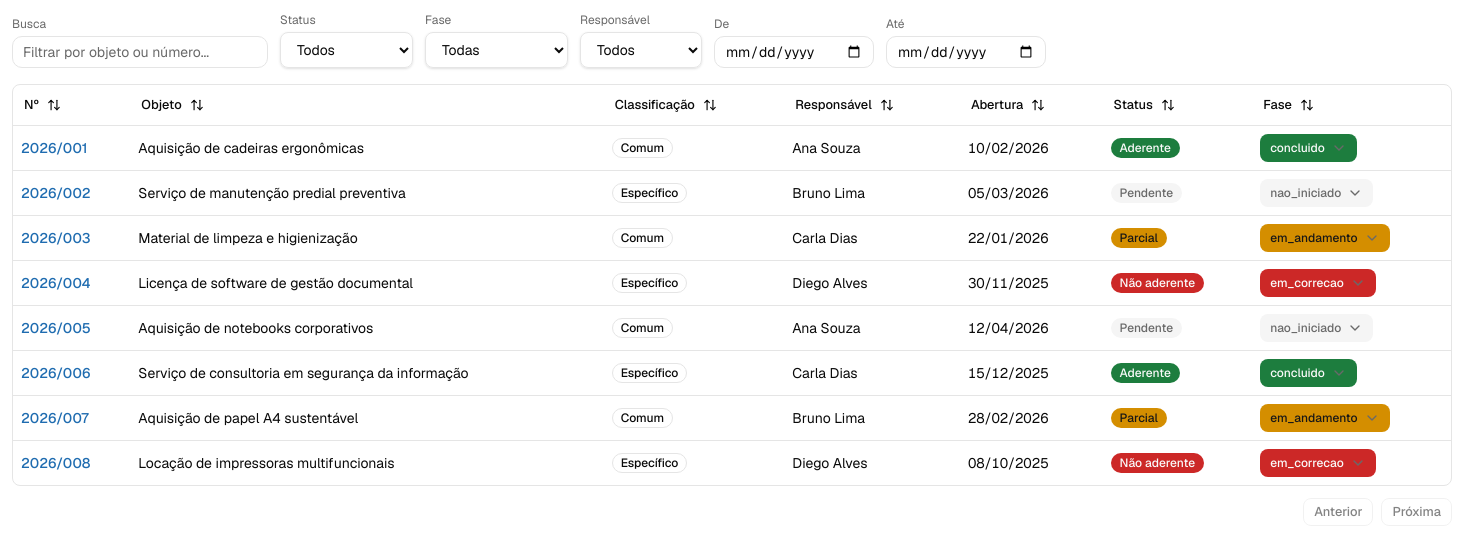
Test case: ProcessosTable › filtra ao digitar na busca
Type "cadeira" into the field with placeholder "Filtrar por objeto ou número..." at [140, 52], box [12, 36, 268, 68]
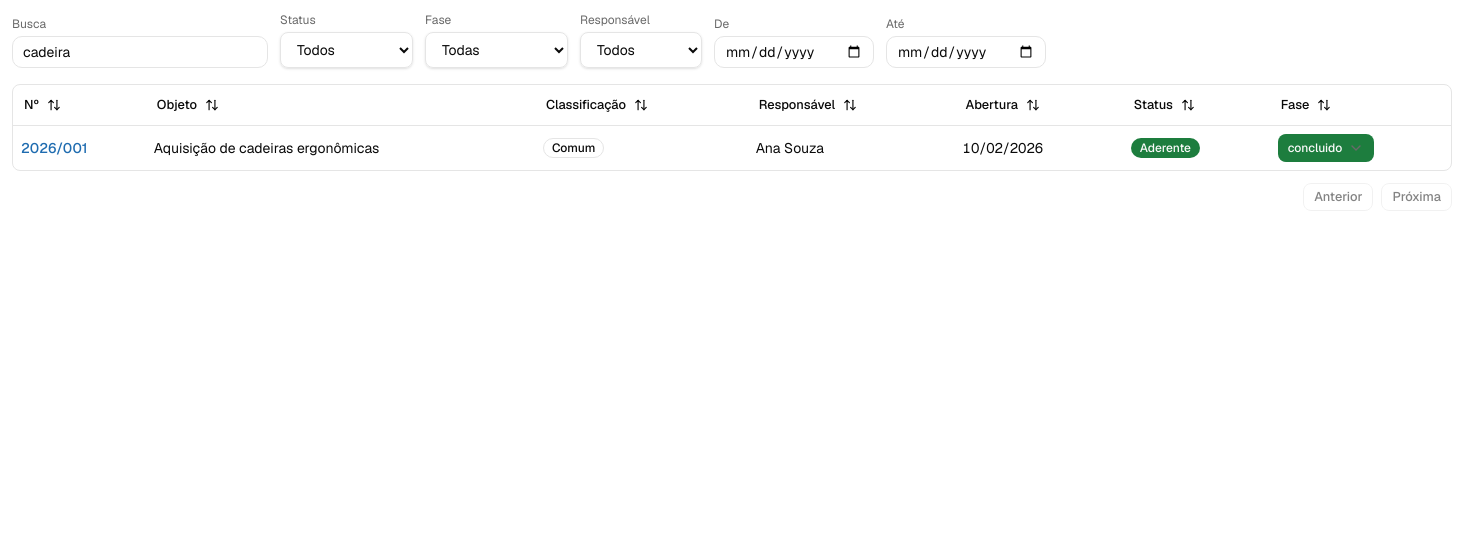
expect the text "Aquisição de cadeiras ergonômicas" is shown: met, box [146, 125, 535, 170]
expect the text "Locação de impressoras multifuncionais" is gone: met
